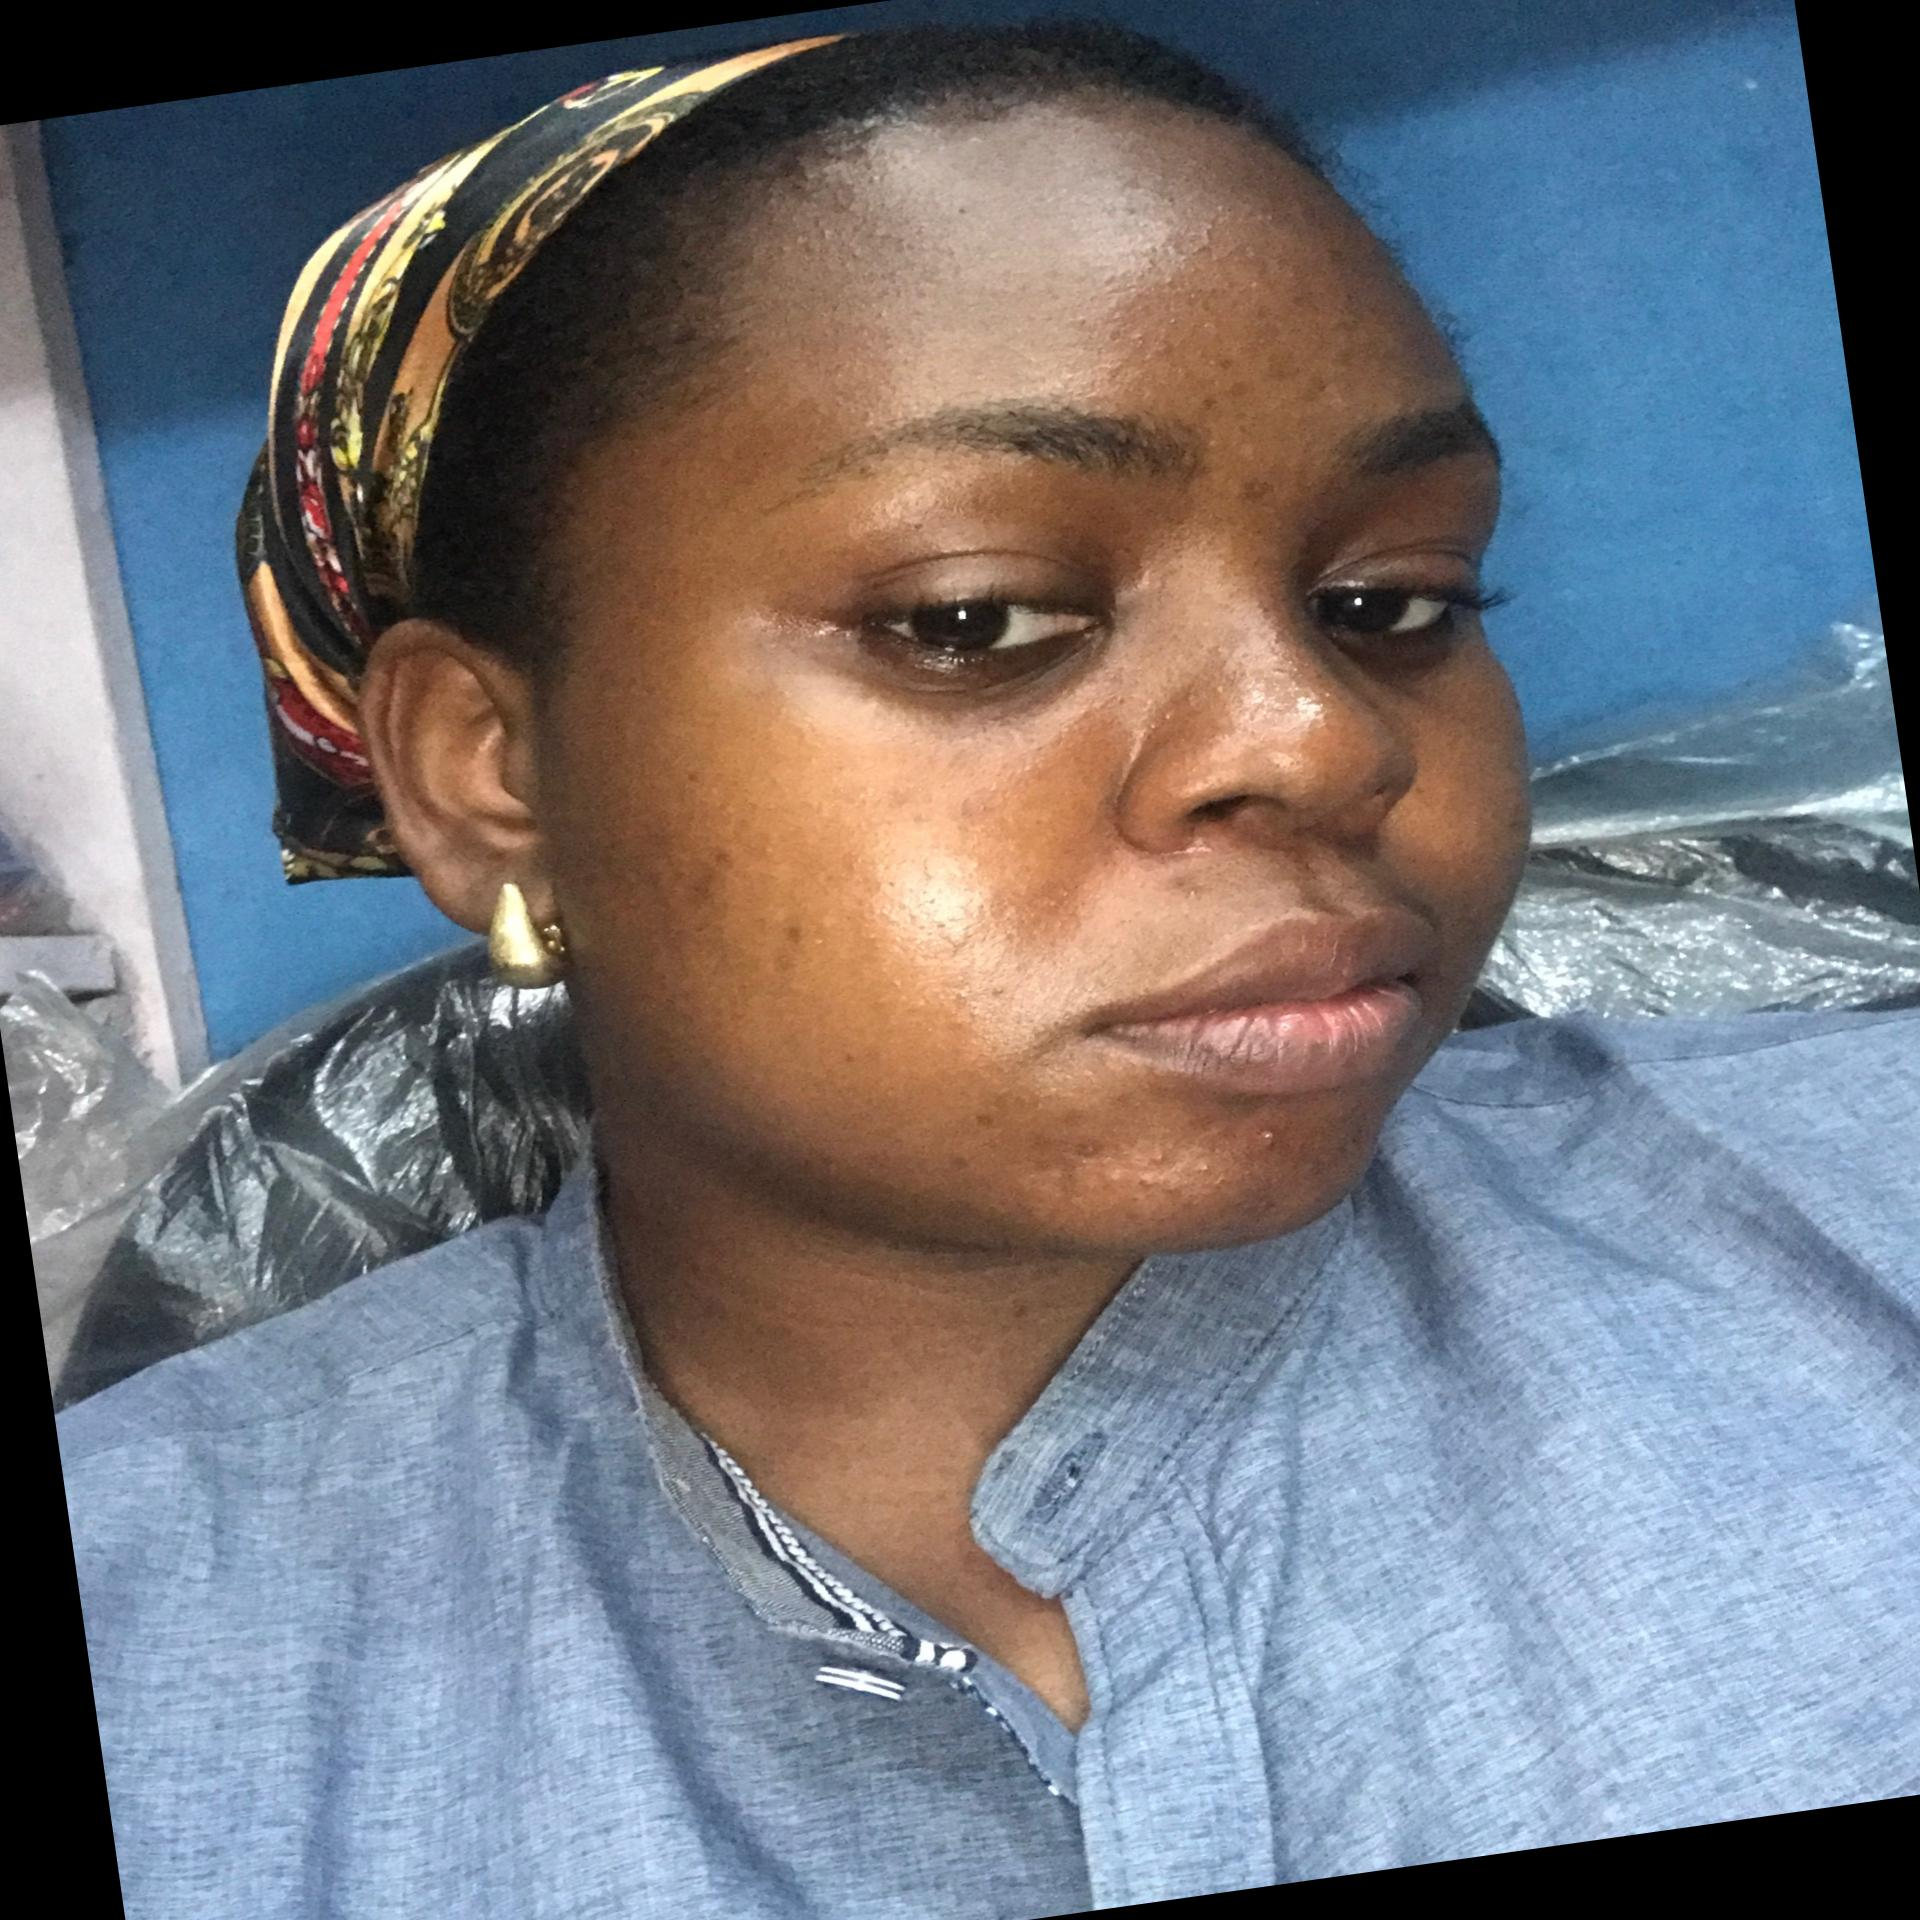Acne: (1243, 271, 1354, 410), (1115, 1136, 1233, 1213), (1118, 673, 1247, 738), (937, 1080, 1023, 1173), (1175, 204, 1271, 274), (742, 909, 819, 995), (1296, 1116, 1393, 1180), (1190, 376, 1269, 454), (1088, 306, 1183, 366), (1044, 1083, 1146, 1132), (682, 835, 744, 904), (1099, 253, 1167, 306), (1245, 589, 1291, 656), (1229, 1187, 1287, 1233), (1224, 469, 1285, 510), (1155, 870, 1217, 907), (1065, 1134, 1118, 1166), (962, 784, 1002, 825), (1199, 346, 1243, 376), (672, 756, 710, 784), (825, 1046, 856, 1078), (1254, 1127, 1278, 1155)
Dark Circles: (782, 600, 1152, 761), (1303, 596, 1500, 721)
Englarged Pores: (876, 860, 986, 1006)
